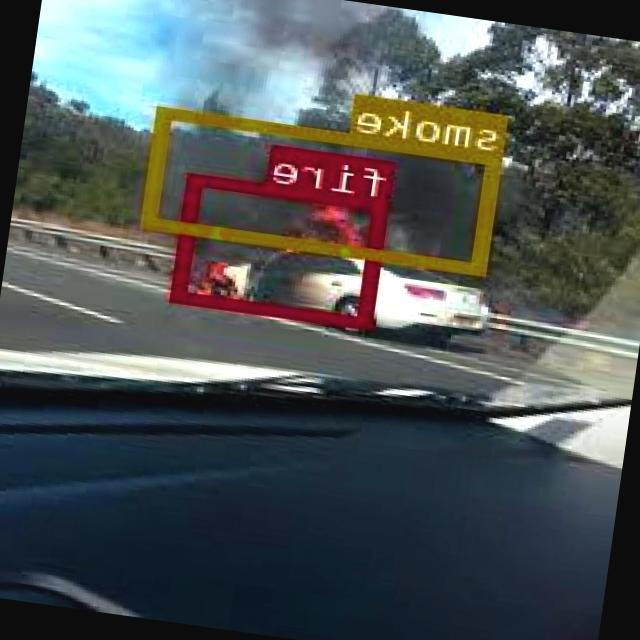fire: (175, 171, 392, 328)
smoke: (143, 105, 506, 274)
